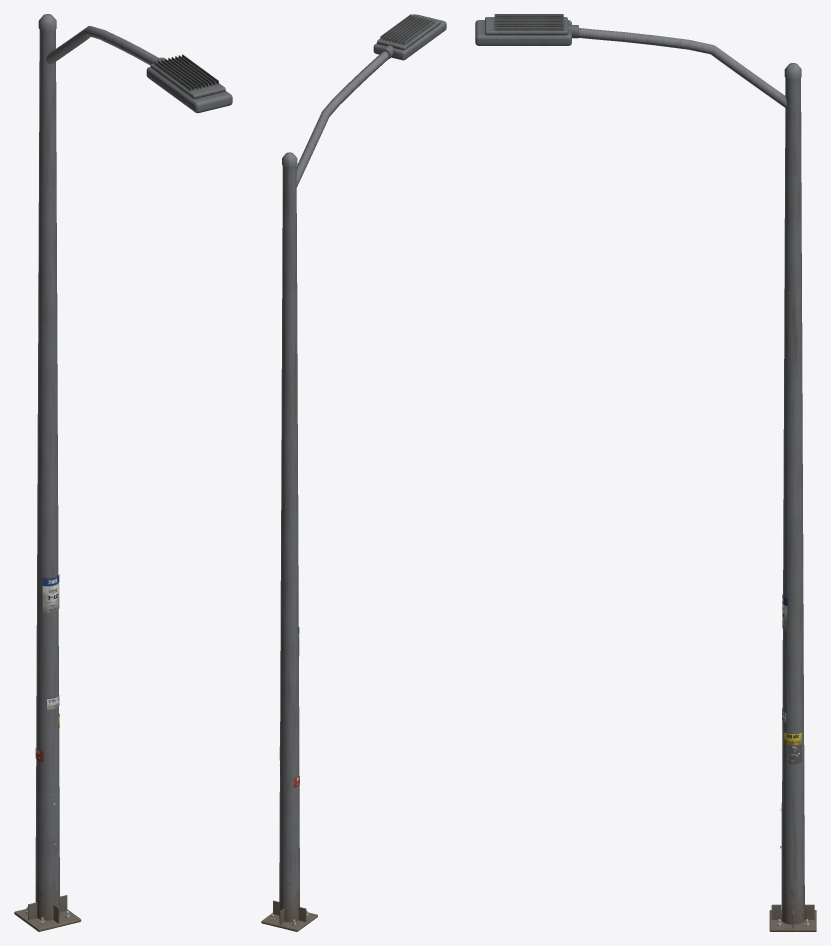
File: StreetLight.fbx
3 renders of one model, left to right at view 1: azimuth 30°, elevation 25°; view 2: azimuth 150°, elevation 25°; view 3: azimuth 270°, elevation 25°, orthographic. The views are drawn at different scales.
Visible parts, largest first — view 1: StreetLight_Body; view 2: StreetLight_Body; view 3: StreetLight_Body.
Part boxes in pixels (<box>): StreetLight_Body: <box>14,14,232,931</box>; StreetLight_Body: <box>261,14,446,931</box>; StreetLight_Body: <box>475,14,816,931</box>.
Size of the model in its own units: 0.34 by 7.19 by 2.47.
